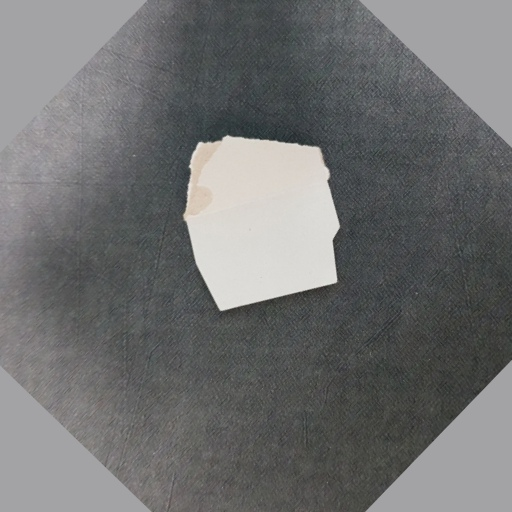Paper_2: (175, 126, 367, 310)
